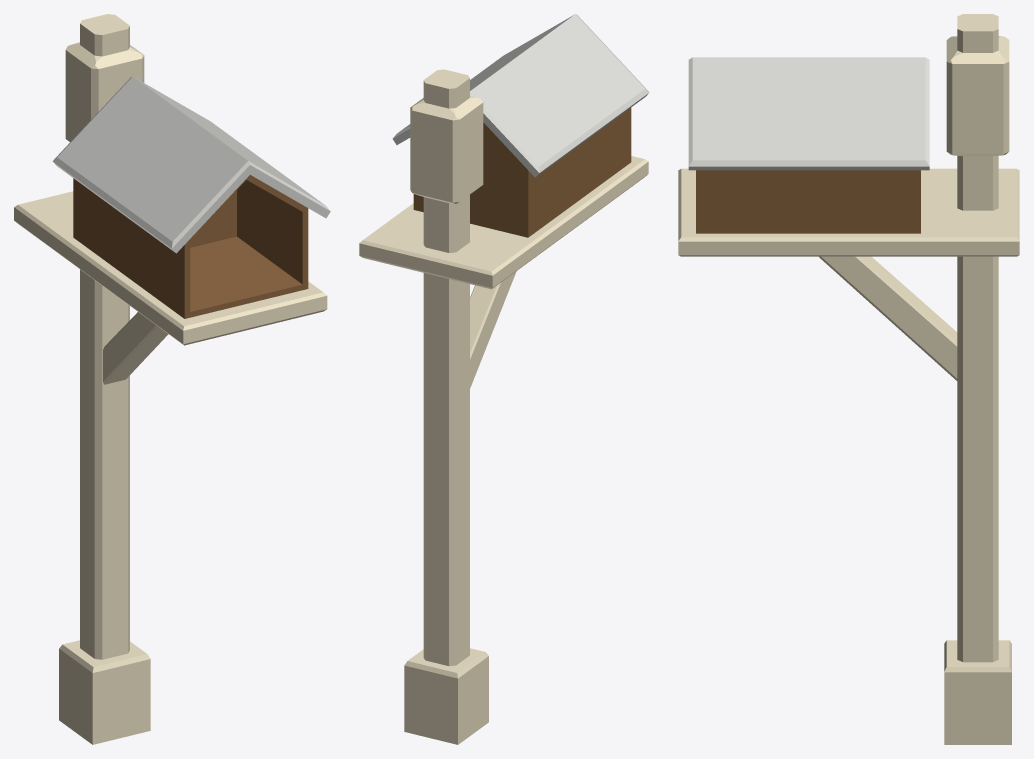
The model's file is mailbox_a.gltf.
The picture shows the model from 3 angles, left to right: view 1: azimuth 30°, elevation 25°; view 2: azimuth 150°, elevation 25°; view 3: azimuth 270°, elevation 25°; orthographic projection. The views are drawn at different scales.
Parts seen in each view (by area): view 1: mailbox_a001; view 2: mailbox_a001; view 3: mailbox_a001.
Part boxes in pixels (x1=…): mailbox_a001: x1=14, y1=14, x2=330, y2=744; mailbox_a001: x1=359, y1=14, x2=649, y2=744; mailbox_a001: x1=678, y1=14, x2=1019, y2=744.
Bounding box in the file's own units: 0.2416 × 1.02 × 0.445.
Materials: 1 (1 with a texture image).
